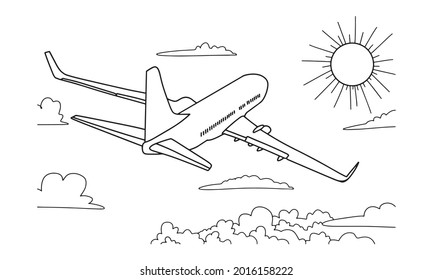airplane: (42, 46, 363, 189)
cloud: (33, 172, 108, 212), (321, 203, 400, 229), (198, 173, 295, 192), (337, 108, 400, 131), (155, 41, 239, 58), (36, 96, 69, 129)
sun: (300, 13, 399, 120)
